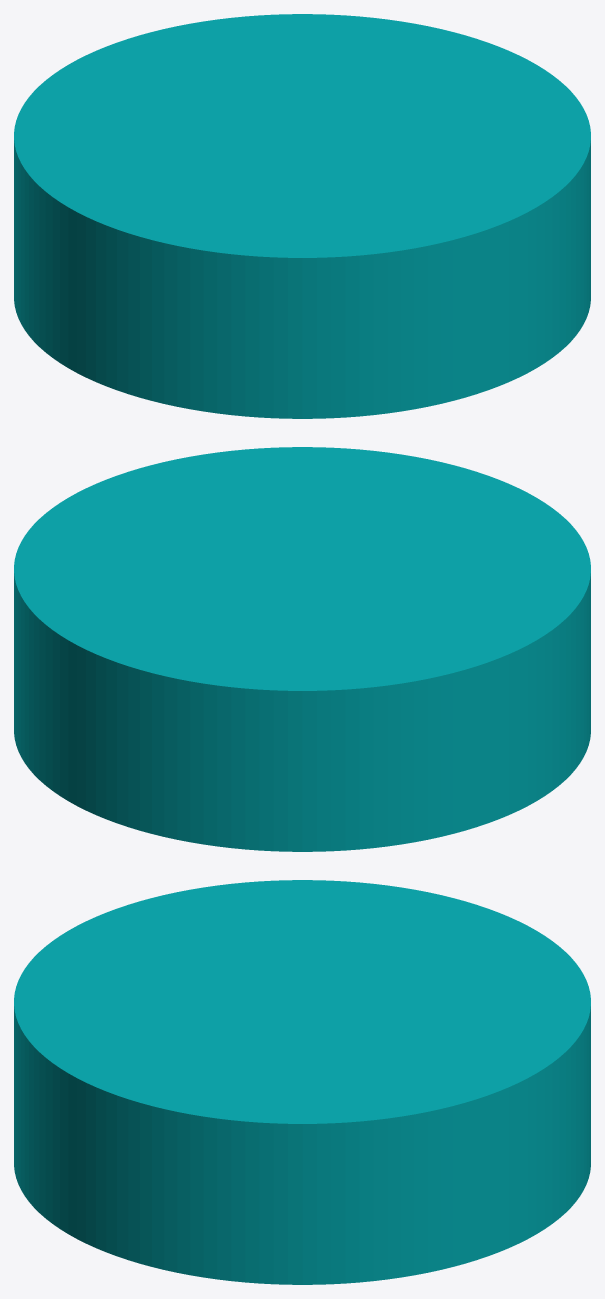
Rendered from dot-base@dot.glb.
3 views of the same model, one above another, from view 1: azimuth 30°, elevation 25°; view 2: azimuth 150°, elevation 25°; view 3: azimuth 270°, elevation 25° (orthographic).
Parts seen in each view (by area): view 1: geometry_0; view 2: geometry_0; view 3: geometry_0.
Part boxes in pixels (x1=…): geometry_0: x1=14, y1=14, x2=590, y2=418; geometry_0: x1=14, y1=447, x2=590, y2=851; geometry_0: x1=14, y1=880, x2=590, y2=1284.
Bounding box in the file's own units: 2.6 × 0.8 × 2.6.
